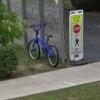Bicycle: (21, 14, 67, 77)
